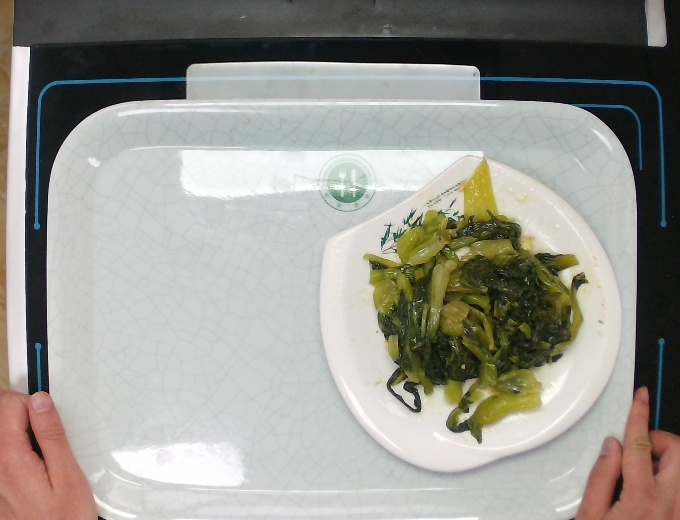JYsf-Mian_Pan: (315, 154, 626, 475)
